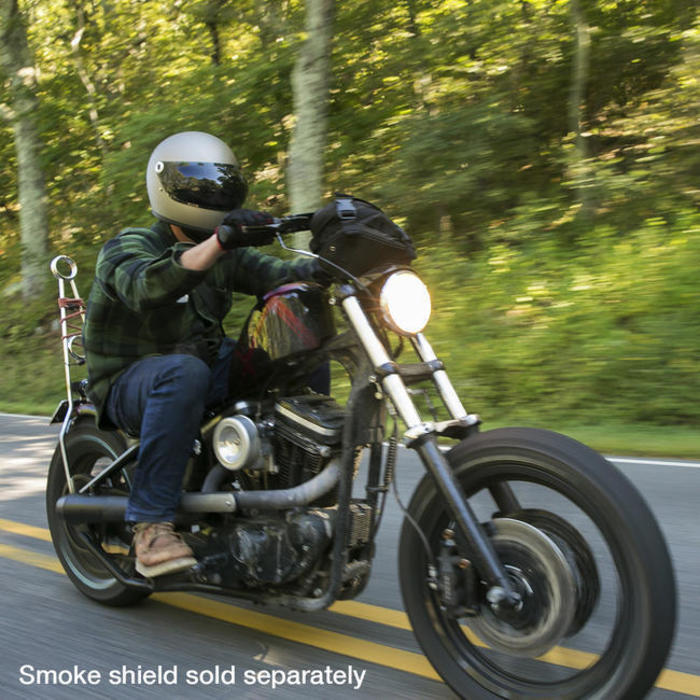h: (142, 130, 251, 242)
